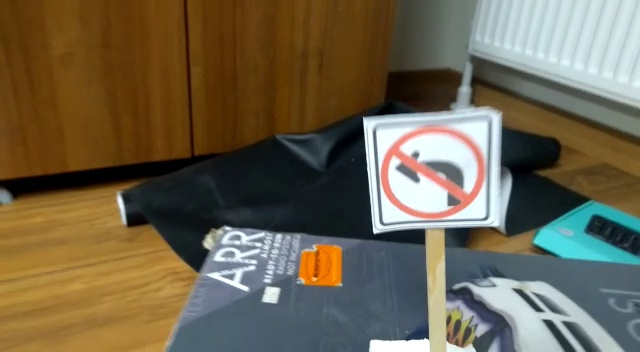sola_donulmez: (379, 110, 496, 226)
